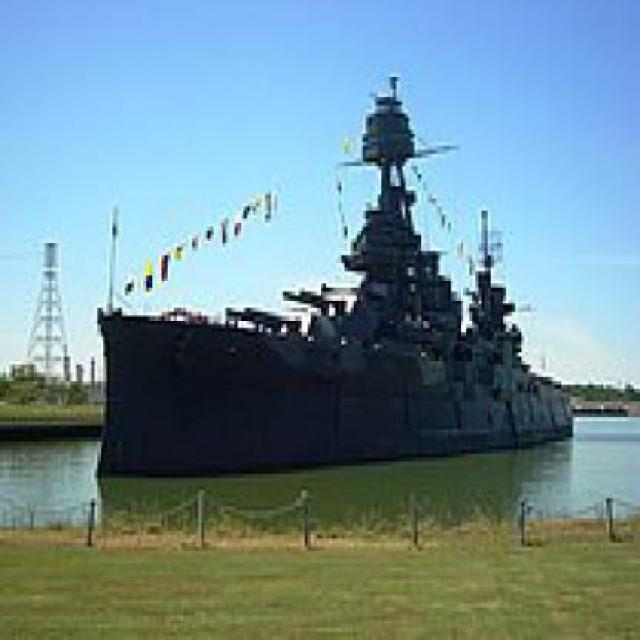warship2: (90, 61, 593, 487)
